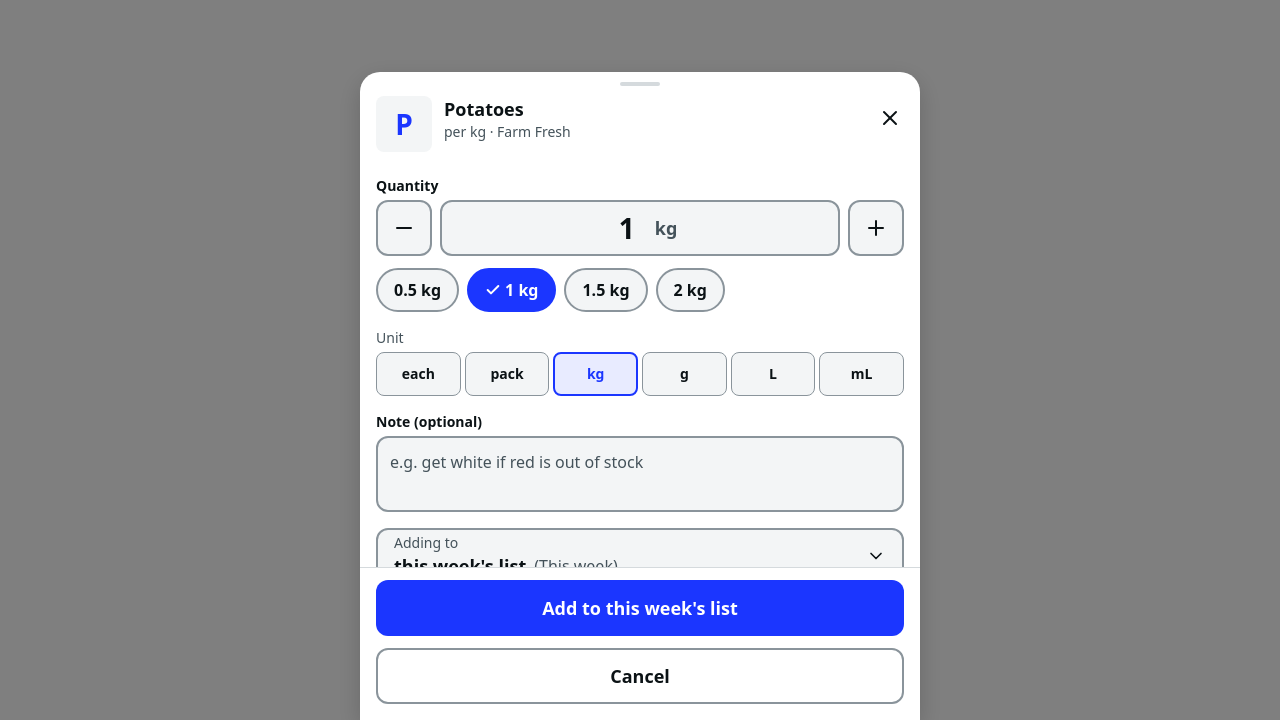
QuantityModal › shows presets for the unit, marks the current one and sets on tap
Check: the dialog is shown, box [360, 72, 920, 719]
Click the button "1.5 kg": point(606, 290) [564, 268, 648, 312]
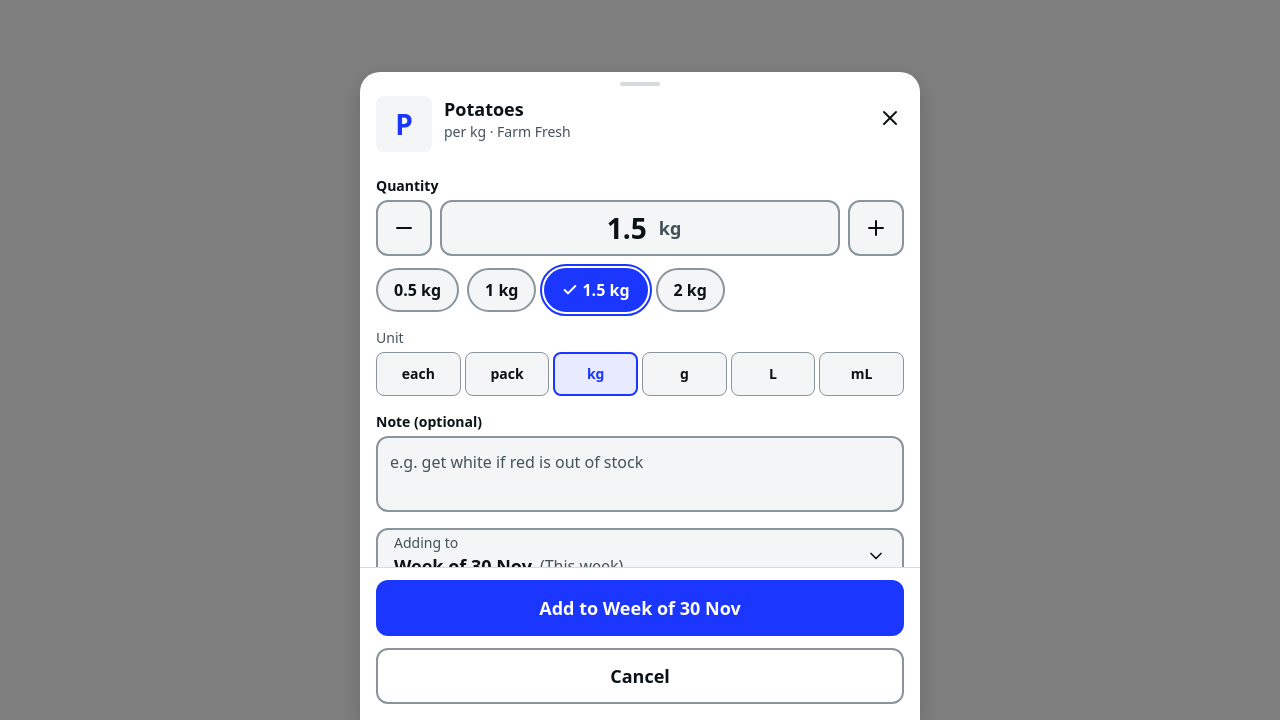
Check: the field labelled "Quantity" holds "1.5", box [595, 202, 659, 254]
